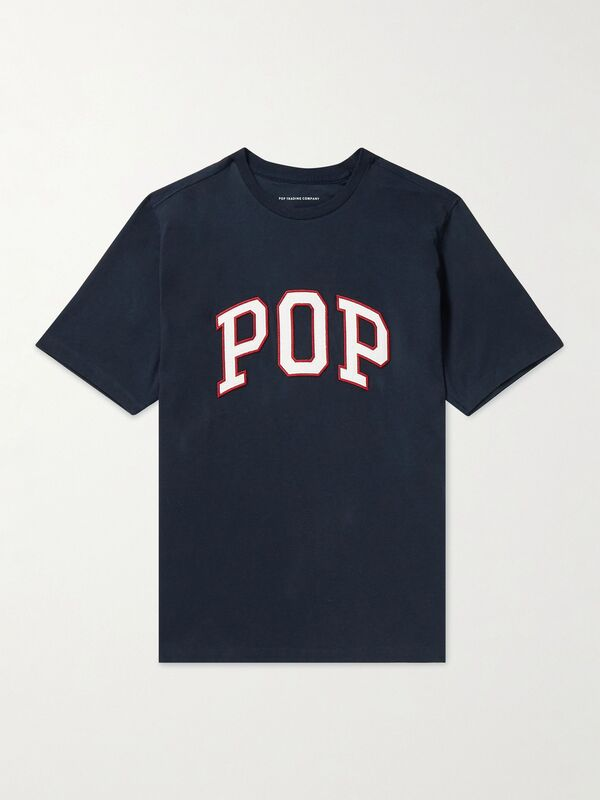tshirt: (28, 131, 573, 671)
